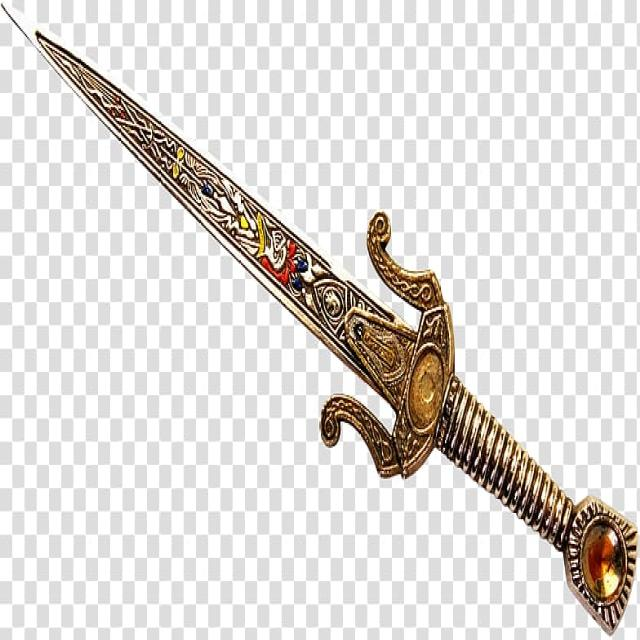Gun: (21, 15, 640, 640)
